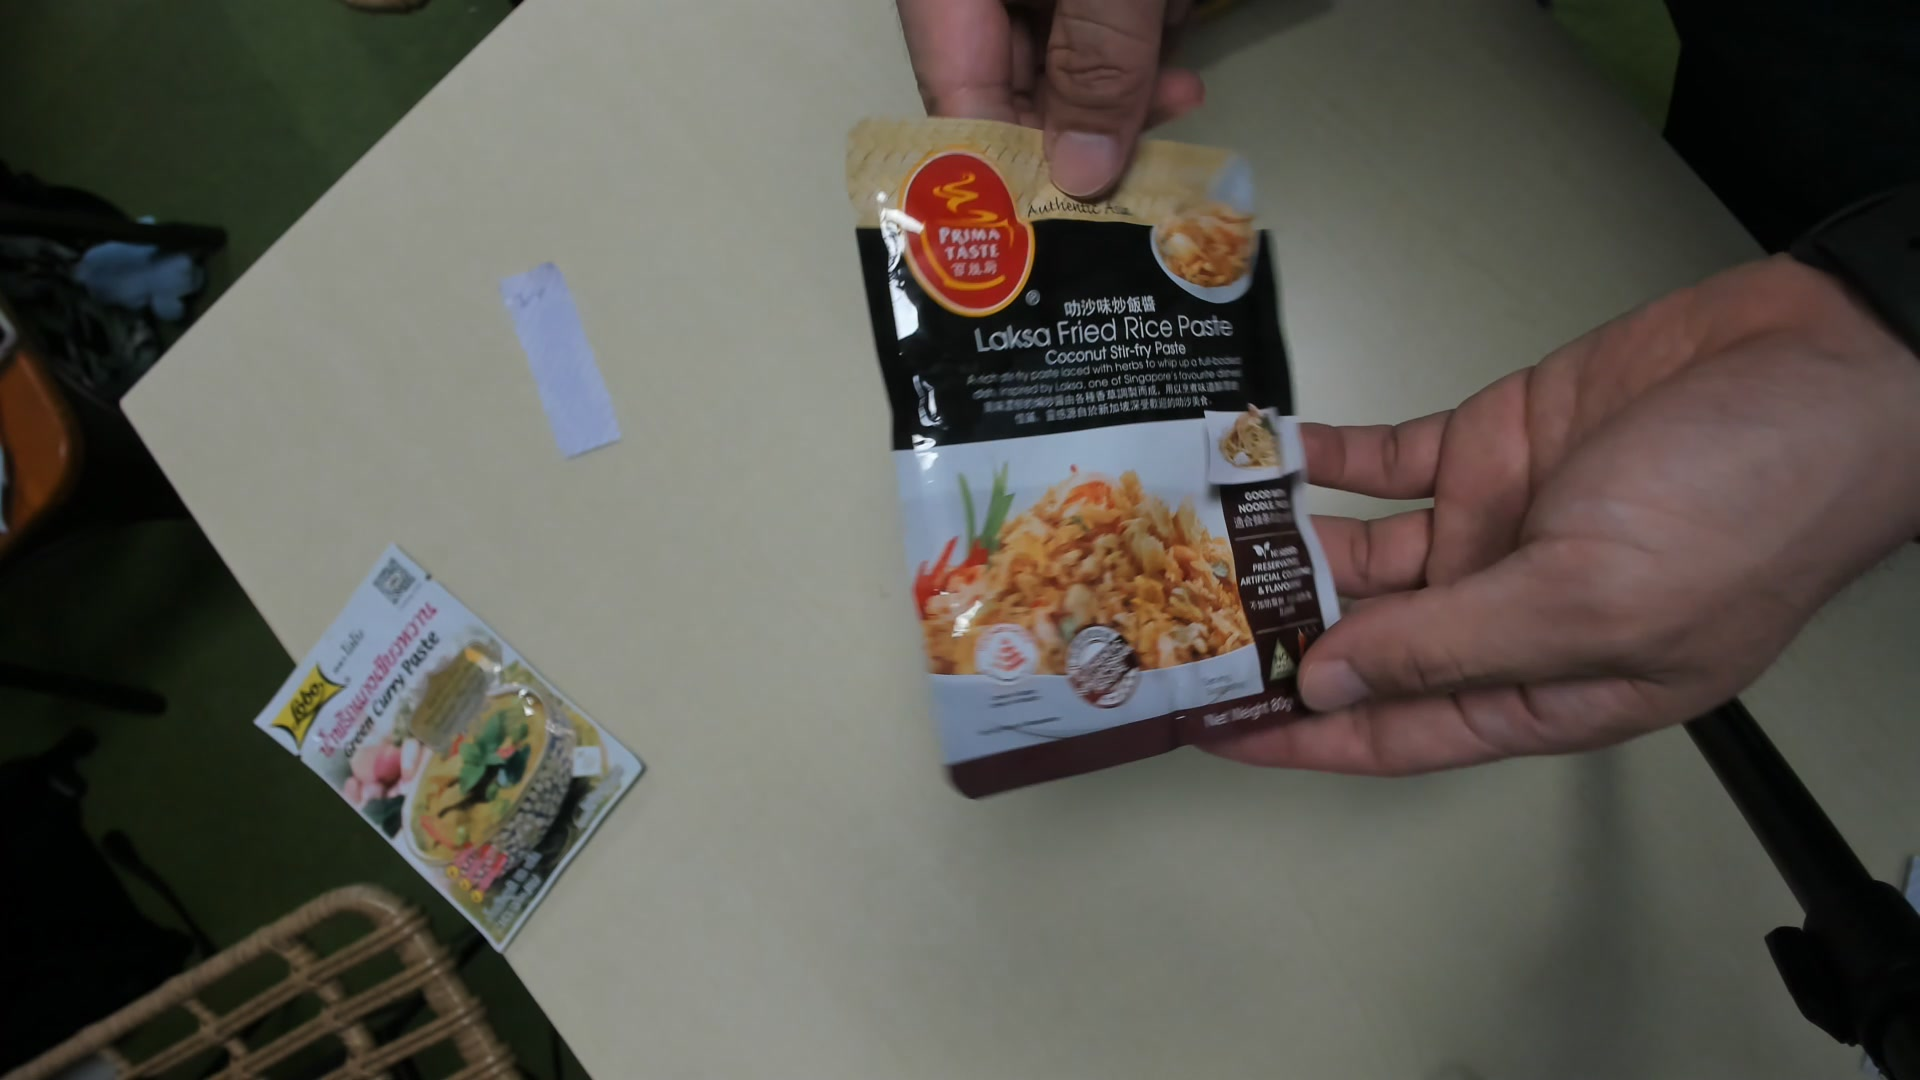OtherSauceDressing_0-99g_Halal_NonHealthy: (852, 109, 1353, 794)
